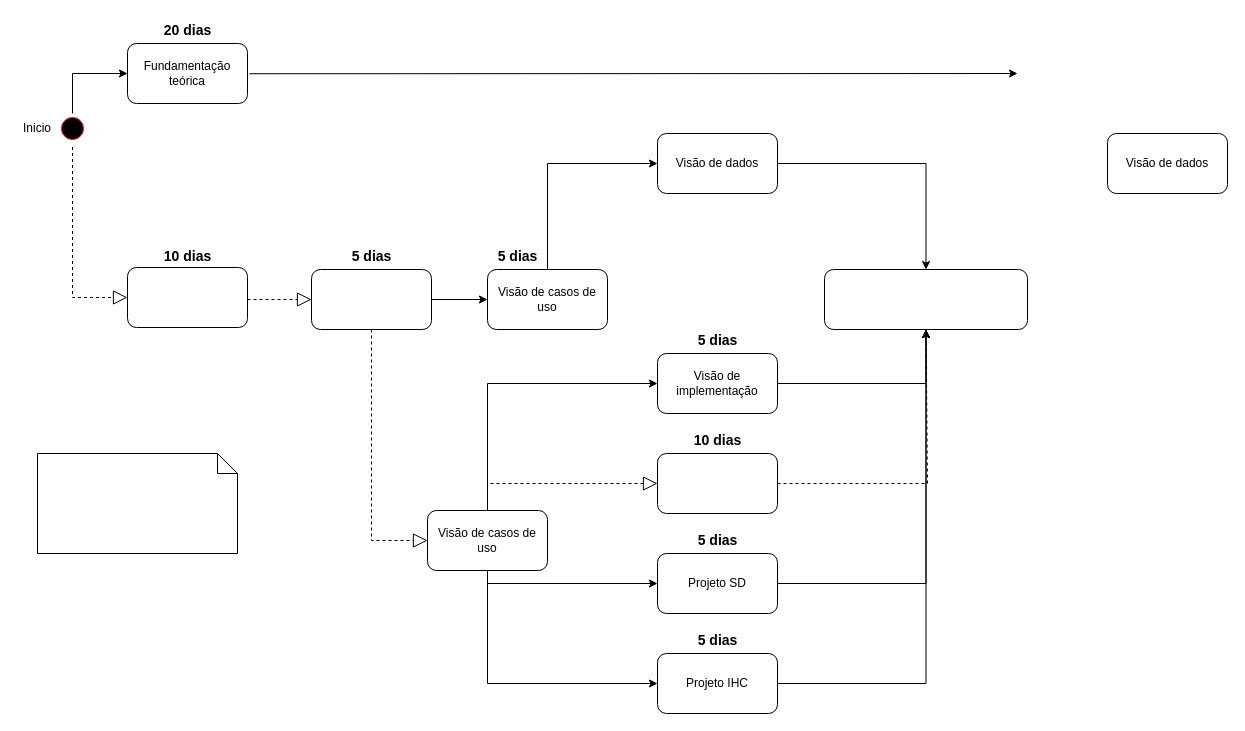
Some shapes in this 1245 by 731 pixel diagram are drawn without their labels. Here are the shapes that lost their labels. From the top down, the centre of each, then its label:
At (x=187, y=297): "Plano e gerência de projeto".
At (x=371, y=299): "Descrição de requisitos".
At (x=926, y=299): "Plano de testes".
At (x=137, y=503): "IC - Introdução Humano-Computador SD - Sistemas Distribuídos".
At (x=717, y=483): "Visão Comportamental".
